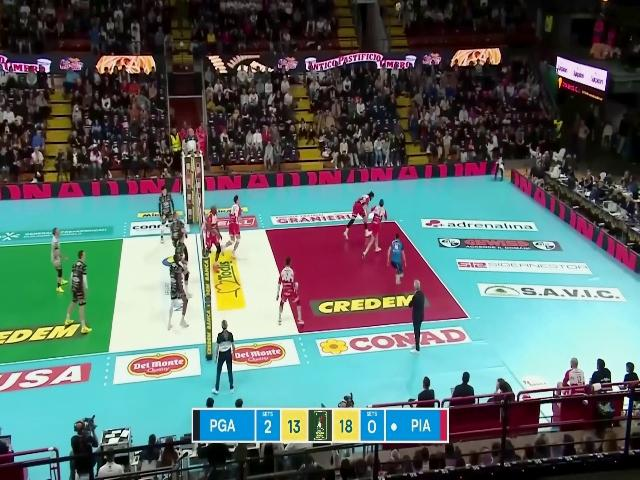volleyball court: (0, 219, 468, 365)
